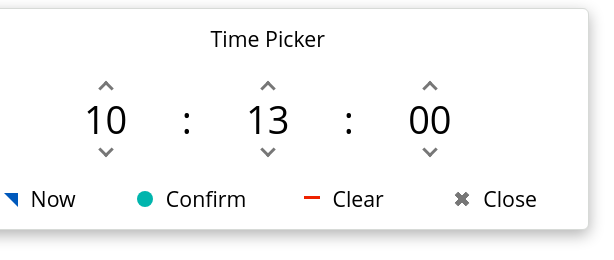
Test case: TimePickerComponent › should decrease one hour if hour arrow down element was clicked
Click the 1st element with class "down" at (106, 150), box [98, 142, 113, 157]
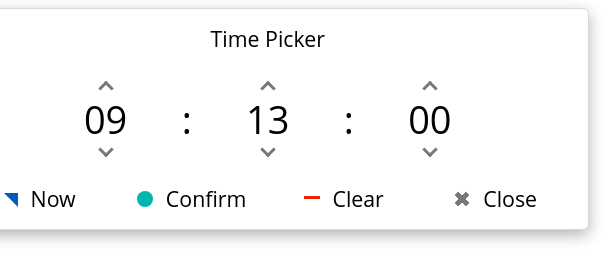
Now the list item with class "hour" reads "09", box [84, 93, 127, 145]
